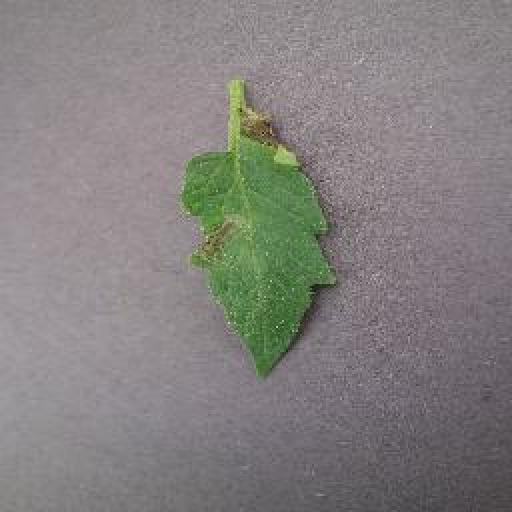Late Blight: (181, 104, 339, 377)
